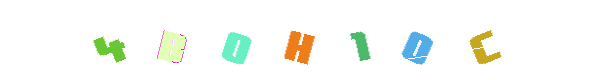0: (336, 0, 416, 80)
1: (268, 0, 348, 80)
4: (132, 0, 212, 80)
B: (158, 0, 238, 80)
C: (377, 0, 457, 80)
H: (204, 0, 284, 80)
O: (172, 0, 252, 80)
